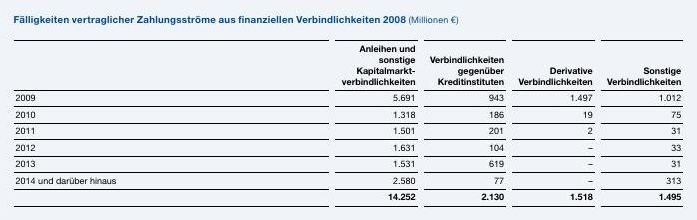table: (0, 0, 697, 220)
